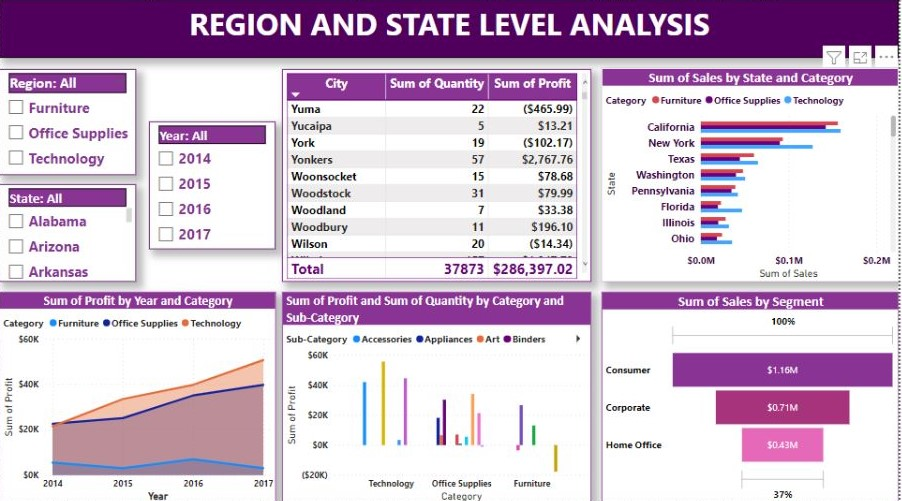

What the dashboard file says about the page in this screenshot:
{"tool":"powerbi","page":{"name":"Region & State","canvas":[1280,720],"ordinal":1},"visuals":[{"type":"textbox","box":[0,0,1280,84],"z":0},{"type":"slicer","fields":{"Values":["Orders.Category"]},"box":[0,100.5,195.4,151.4],"z":1},{"type":"slicer","fields":{"Values":["Orders.State"]},"box":[0,264.3,195.4,139],"z":2},{"type":"slicer","fields":{"Values":["Orders.Year"]},"box":[213.3,174.8,180.3,181.7],"z":3},{"type":"tableEx","fields":{"Values":["Orders.City","Sum(Orders.Quantity)","Sum(Orders.Profit)"]},"box":[403.3,100.5,440.4,302.8],"z":4},{"type":"clusteredBarChart","fields":{"Series":["Orders.Category"],"Y":["Sum(Orders.Sales)"],"Category":["Orders.State"]},"box":[857.5,99.1,422.5,304.2],"z":5},{"type":"areaChart","fields":{"Series":["Orders.Category"],"Category":["Orders.Year"],"Y":["Sum(Orders.Profit)"]},"box":[0,417,393.6,302.8],"z":6},{"type":"lineClusteredColumnComboChart","fields":{"Category":["Orders.Category"],"Series":["Orders.Sub-Category"],"Y":["Sum(Orders.Profit)"]},"box":[403,417,440,303],"z":7},{"type":"funnel","fields":{"Category":["Orders.Segment"],"Y":["Sum(Orders.Sales)"]},"box":[857,417,423,303],"z":8}]}

Visuals, with their boxes in screenshot pixels (x1, y1, x2, y2), scaled from the page's 1280x720 canvas onto the 902x501 screenshot:
textbox: detection(0, 0, 901, 58)
slicer - Orders.Category: detection(0, 70, 138, 175)
slicer - Orders.State: detection(0, 184, 138, 281)
slicer - Orders.Year: detection(150, 122, 277, 248)
tableEx - Orders.City x Sum(Orders.Quantity): detection(284, 70, 595, 281)
clusteredBarChart - Orders.Category x Sum(Orders.Sales): detection(604, 69, 901, 281)
areaChart - Orders.Category x Orders.Year: detection(0, 290, 277, 500)
lineClusteredColumnComboChart - Orders.Category x Orders.Sub-Category: detection(284, 290, 594, 500)
funnel - Orders.Segment x Sum(Orders.Sales): detection(604, 290, 901, 500)
